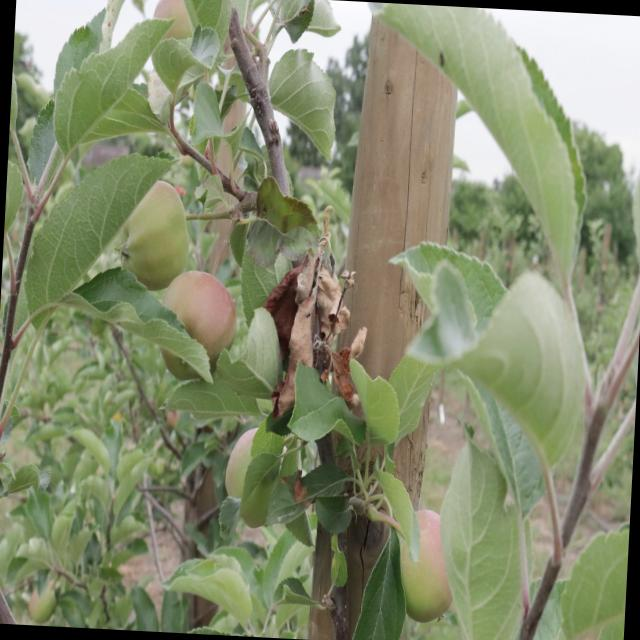-FireBlight-: (263, 230, 363, 386)
